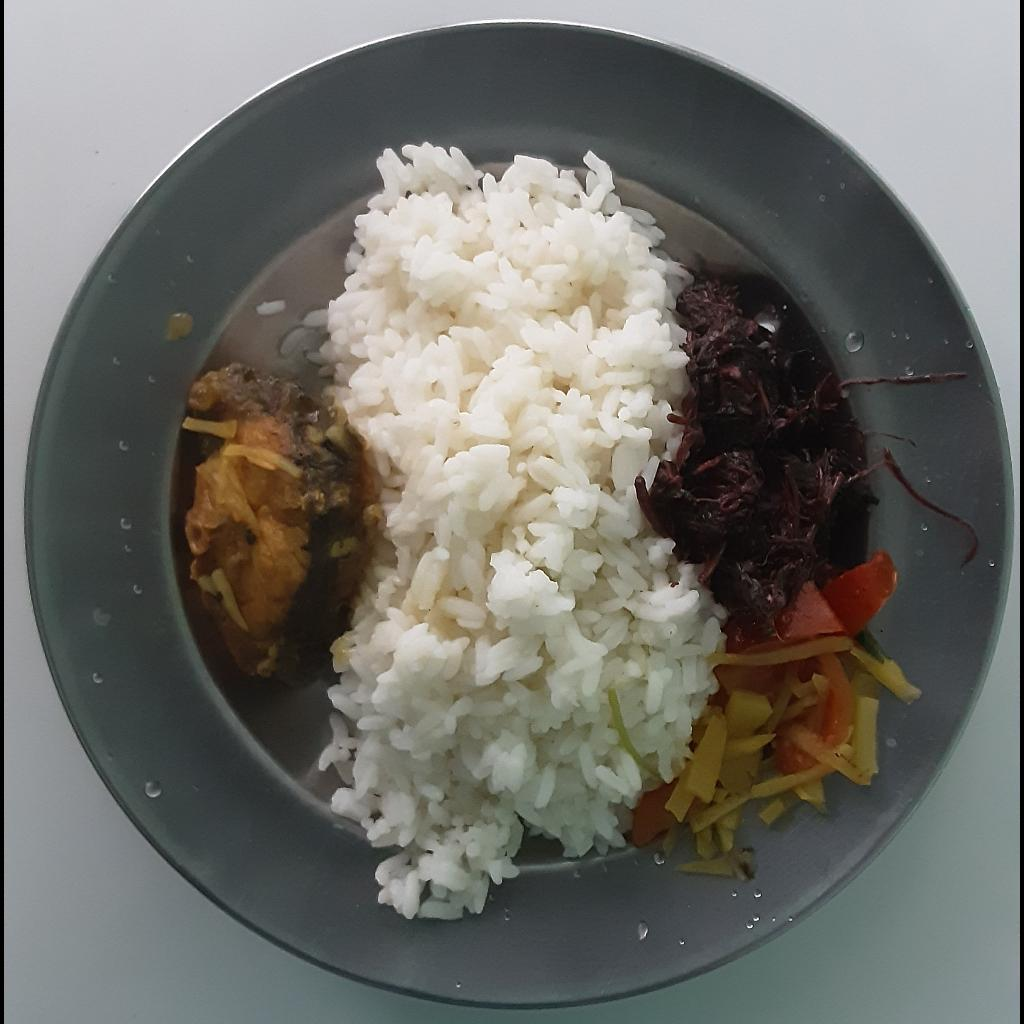fish: (173, 358, 375, 686)
lal-shak: (643, 256, 982, 635)
potato: (665, 623, 934, 881)
rice: (263, 141, 744, 922)
tomato: (788, 540, 908, 639), (772, 646, 859, 774), (627, 778, 685, 850)
